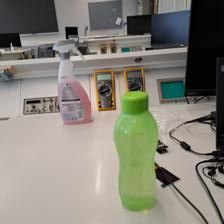bottle: (114, 87, 161, 210)
